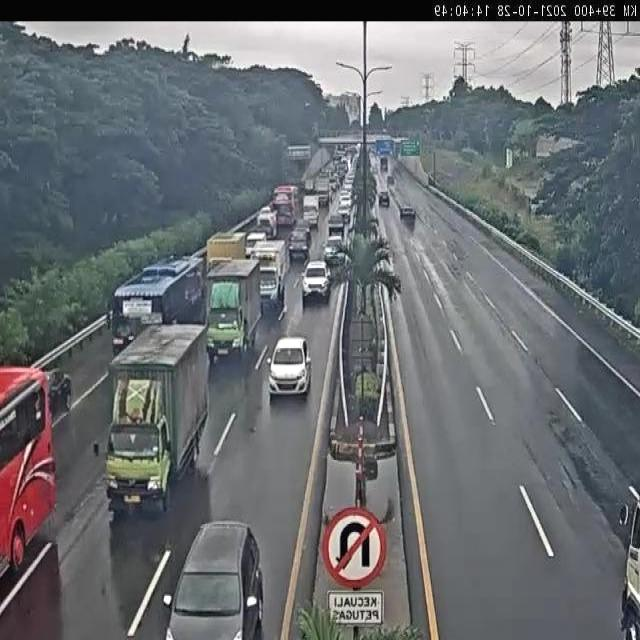Car: (169, 518, 266, 640), (267, 336, 312, 399), (301, 260, 331, 303), (324, 234, 345, 264), (288, 233, 309, 262), (244, 231, 267, 256), (338, 190, 352, 218), (349, 148, 361, 174), (321, 164, 333, 183), (335, 146, 347, 163), (388, 173, 394, 184)
Truck: (95, 323, 212, 517), (202, 267, 259, 359)
